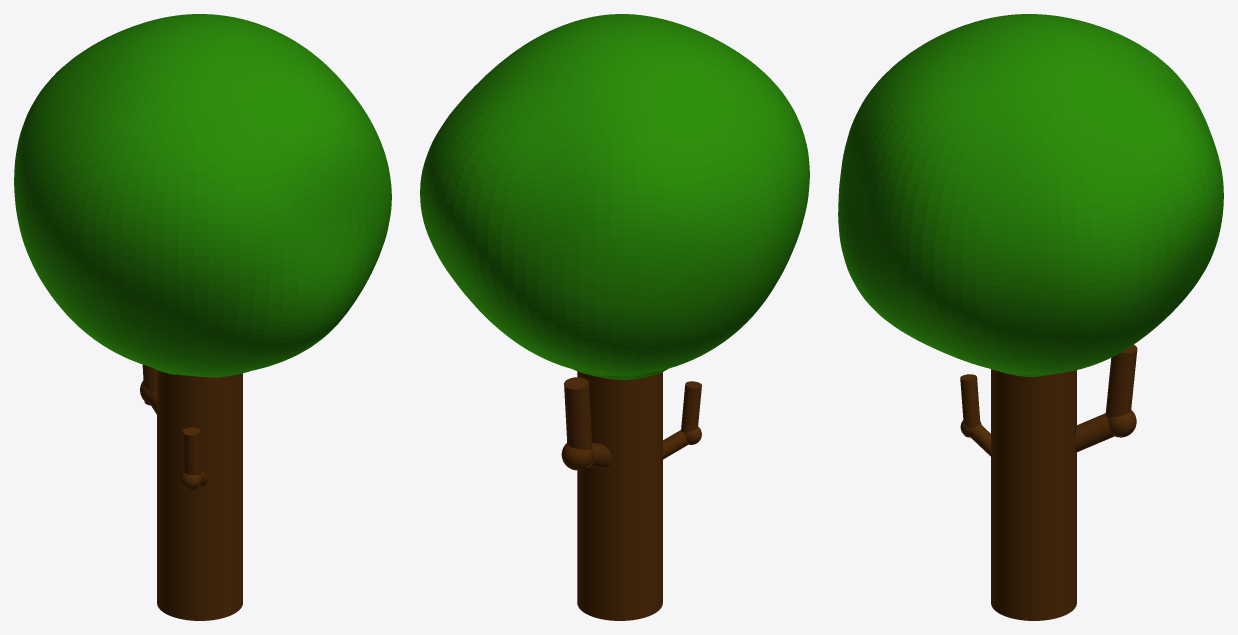
File: Tree_to_slystroyer.glb
The picture shows the model from 3 angles, left to right: view 1: azimuth 30°, elevation 25°; view 2: azimuth 150°, elevation 25°; view 3: azimuth 270°, elevation 25°; orthographic projection.
Visible parts, largest first — view 1: Sphere; view 2: Sphere; view 3: Sphere.
Part boxes in pixels (x1,y1,x2,y2): Sphere: (14, 14, 391, 620); Sphere: (420, 14, 809, 620); Sphere: (838, 14, 1223, 620).
Bounding box in the file's own units: 4.94 × 8.19 × 5.01.
